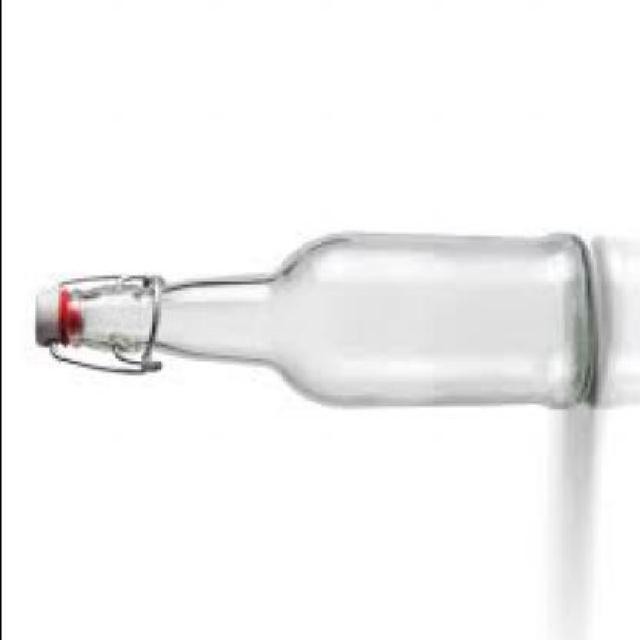GLASS: (62, 231, 588, 409)
PLASTIC: (31, 284, 54, 344)
